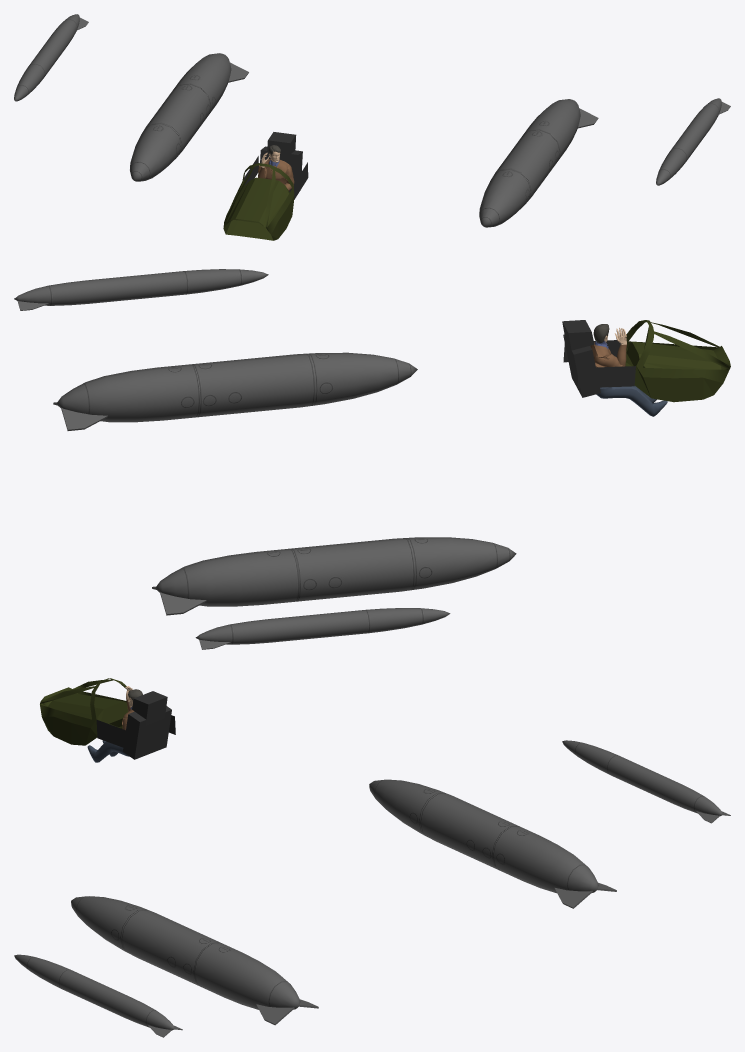
The model's file is drop.glb.
The picture shows the model from 3 angles, top to bottom: view 1: azimuth 30°, elevation 25°; view 2: azimuth 150°, elevation 25°; view 3: azimuth 270°, elevation 25°; orthographic projection. The views are drawn at different scales.
Visible parts, largest first — view 1: Capsule03-FACES.001, Capsule02-FACES.001, Object01-FACES.001, Box05-FACES.001, FUZEL-FACES.003; view 2: Capsule03-FACES.001, Capsule02-FACES.001, Object01-FACES.001, Box05-FACES.001, FUZEL-FACES.003, PILOT_BODY-FACES.001; view 3: Capsule03-FACES.001, Capsule02-FACES.001, Object01-FACES.001, Box05-FACES.001, FUZEL-FACES.003.
Part boxes in pixels (<box>): Capsule03-FACES.001: <box>14,14,248,181</box>; Capsule02-FACES.001: <box>479,98,730,227</box>; Object01-FACES.001: <box>223,163,294,240</box>; Box05-FACES.001: <box>260,132,302,192</box>; FUZEL-FACES.003: <box>244,156,308,199</box>; Capsule03-FACES.001: <box>152,537,516,649</box>; Capsule02-FACES.001: <box>14,269,417,430</box>; Object01-FACES.001: <box>625,320,730,402</box>; Box05-FACES.001: <box>562,320,600,397</box>; FUZEL-FACES.003: <box>563,340,635,388</box>; PILOT_BODY-FACES.001: <box>596,386,667,416</box>; Capsule03-FACES.001: <box>369,740,730,908</box>; Capsule02-FACES.001: <box>14,896,318,1037</box>; Object01-FACES.001: <box>40,678,128,745</box>; Box05-FACES.001: <box>123,691,171,759</box>; FUZEL-FACES.003: <box>96,715,175,751</box>.
Bounding box in the file's own units: 10.01 × 2.14 × 10.25.
Materials: 19 (2 with a texture image).
